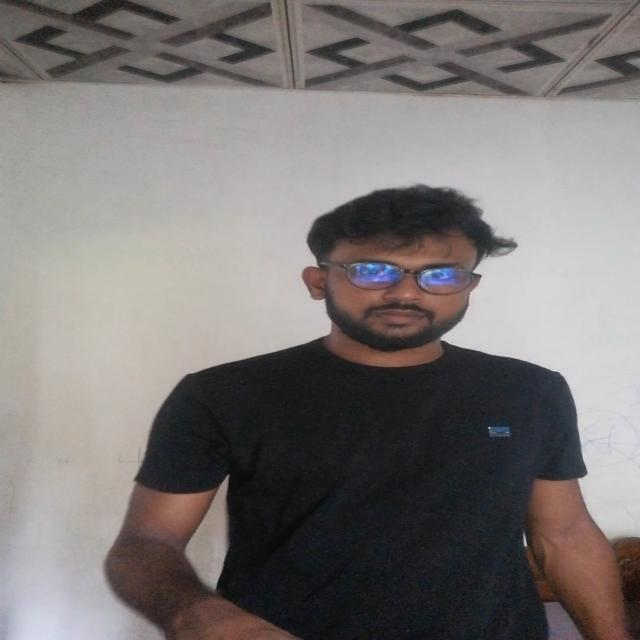Person: (123, 184, 618, 640)
